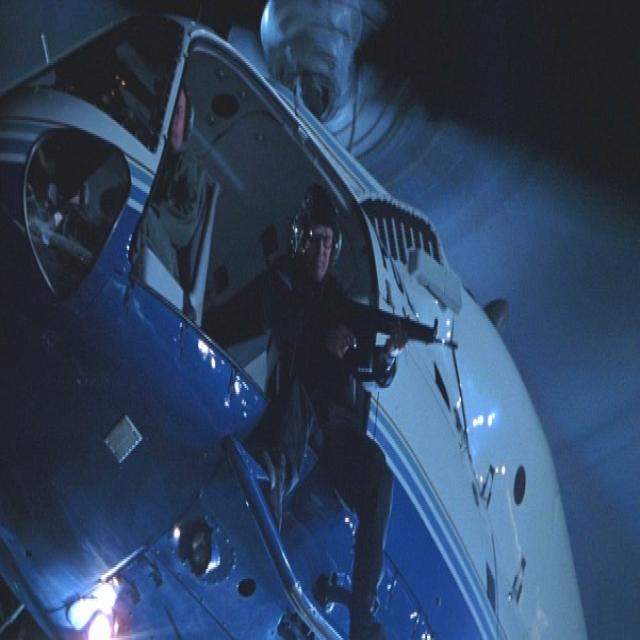rifle: (309, 305, 463, 346)
